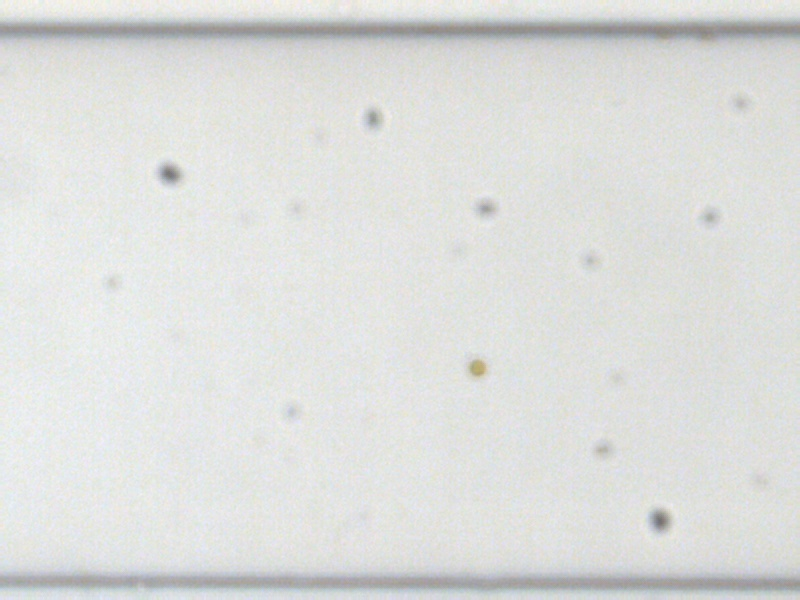Chlorella: (467, 356, 486, 377)
